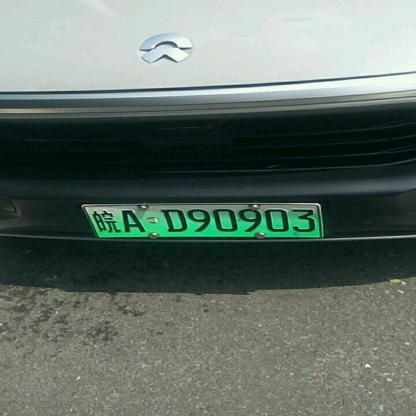lp: (84, 205, 322, 236)
